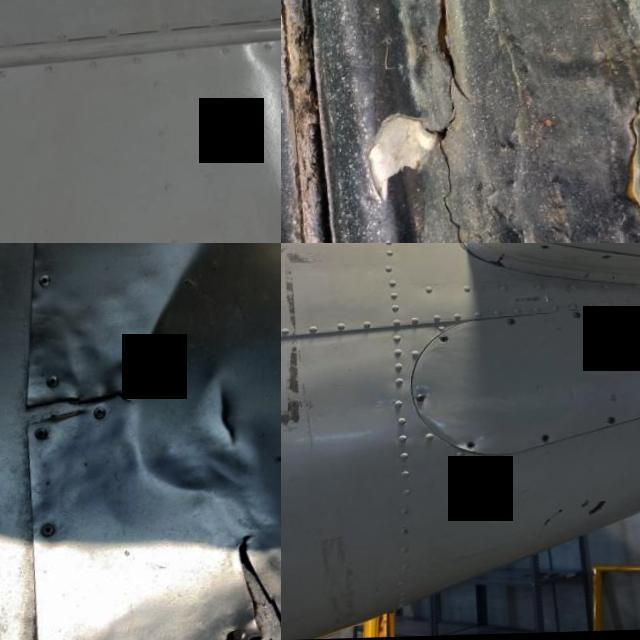Crack: (330, 0, 538, 243), (20, 370, 146, 440), (209, 522, 281, 640), (597, 75, 640, 243)
Dent: (106, 243, 281, 539)
Missing_Fastener: (468, 444, 484, 454), (544, 437, 558, 448), (442, 338, 454, 346), (544, 247, 554, 253), (604, 258, 615, 262)
